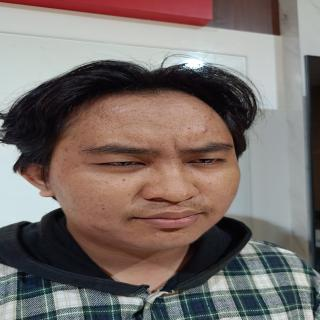Marah: (60, 86, 242, 251)
